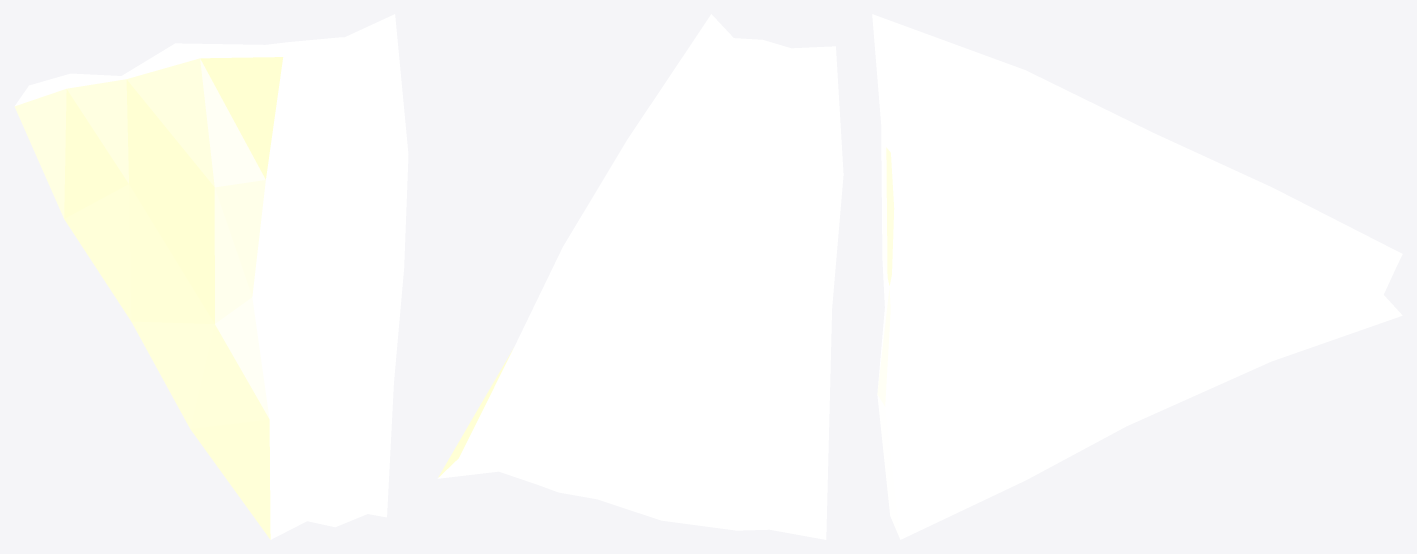
File: triangle.gltf
The picture shows the model from 3 angles, left to right: view 1: azimuth 30°, elevation 25°; view 2: azimuth 150°, elevation 25°; view 3: azimuth 270°, elevation 25°; orthographic projection. The views are drawn at different scales.
Visible parts, largest first — view 1: Triangle; view 2: Triangle; view 3: Triangle.
Boxes of the visible parts, box(x1,y1,x2,y2) form: Triangle: box(14, 14, 408, 539); Triangle: box(437, 14, 843, 539); Triangle: box(872, 14, 1402, 539).
Size of the model in its own units: 0.668 by 2.08 by 2.09.
Materials: 1 (1 with a texture image).
